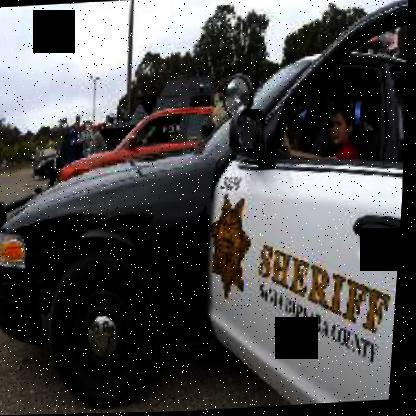emergency: (0, 56, 412, 392)
